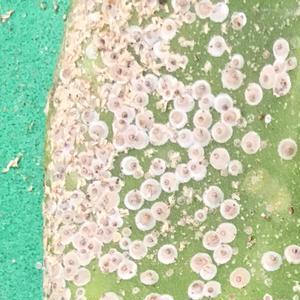Femea: (113, 108, 131, 129), (177, 162, 199, 177), (264, 252, 280, 272), (194, 77, 208, 99), (220, 201, 240, 216), (150, 202, 167, 219), (115, 262, 133, 278), (206, 188, 220, 207), (161, 246, 177, 262), (129, 241, 145, 257), (112, 67, 129, 82), (121, 157, 138, 171), (107, 51, 122, 66), (212, 150, 225, 167), (138, 210, 151, 227), (230, 272, 243, 288), (209, 39, 222, 54), (177, 131, 191, 144), (215, 248, 228, 262), (164, 21, 175, 37), (100, 258, 111, 273), (260, 69, 269, 87), (219, 99, 231, 112), (189, 148, 201, 161), (160, 176, 171, 189), (205, 284, 218, 295), (275, 42, 285, 56), (195, 112, 205, 126), (272, 61, 283, 73), (70, 193, 82, 204), (144, 234, 156, 245), (107, 255, 120, 265), (284, 58, 294, 70), (194, 209, 203, 222), (118, 239, 128, 247)
Macho: (94, 96, 107, 111), (231, 193, 239, 202)
